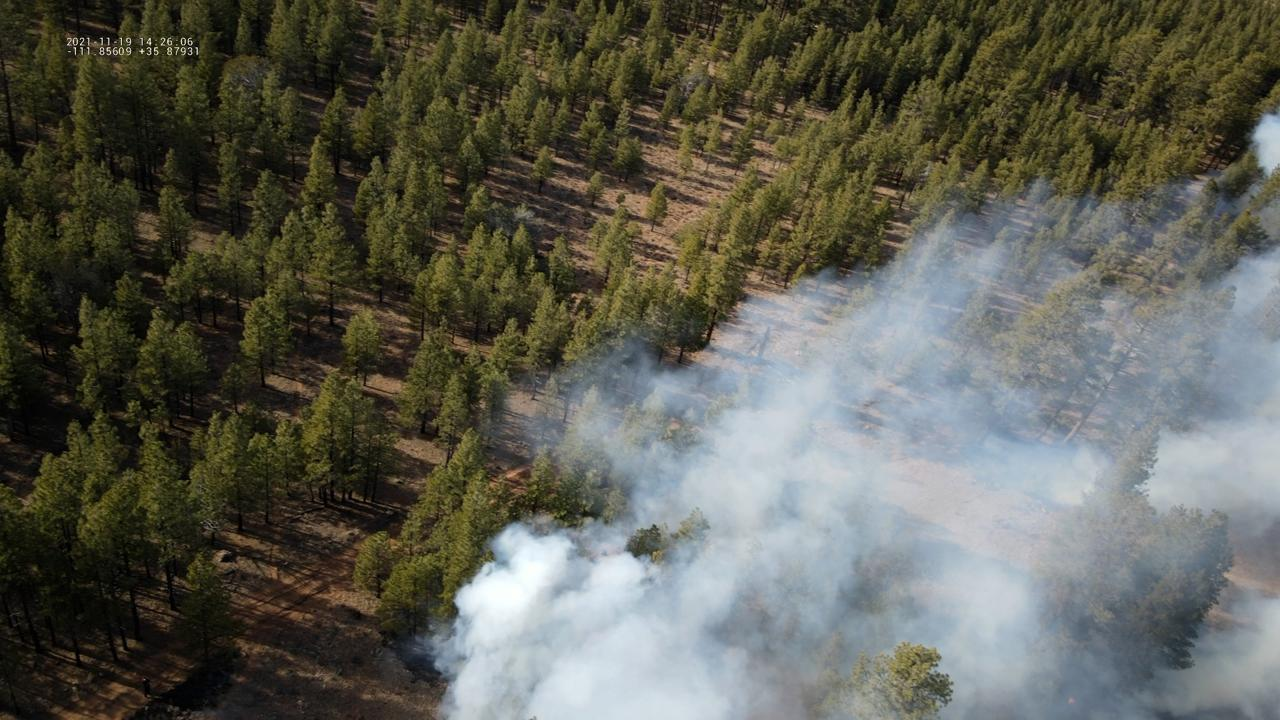smoke: (404, 102, 1280, 720)
